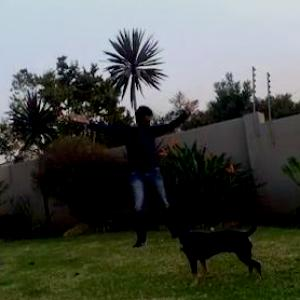takeoff: (64, 95, 198, 237)
